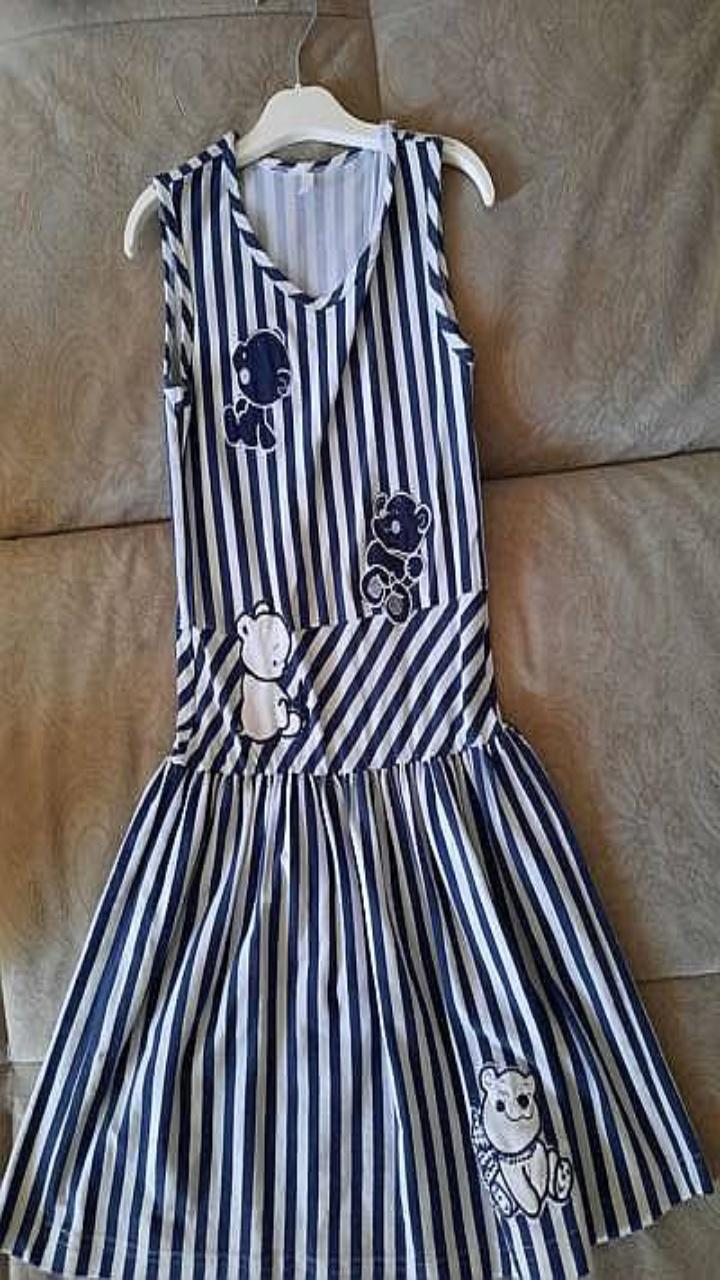Dresses: (0, 120, 711, 1279)
